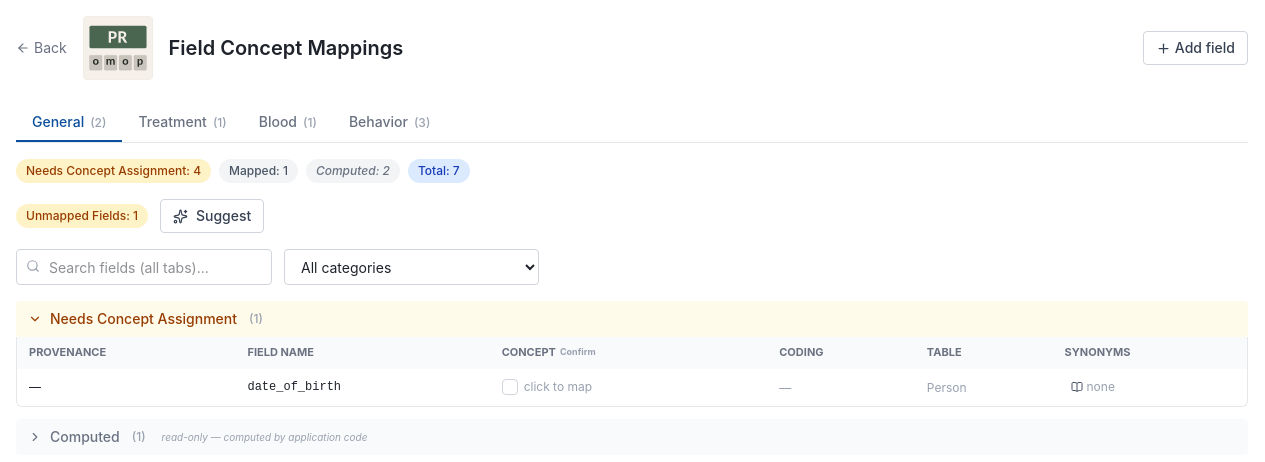
Test: FieldMappingPage › search shows results across all tabs
Expected: the heading "Field Concept Mappings" is shown, [169,34,403,62]
Type "smoking" into the field with placeholder "Search fields (all tabs)...".
click(144, 267); type("smoking")  # box [16,249,272,285]
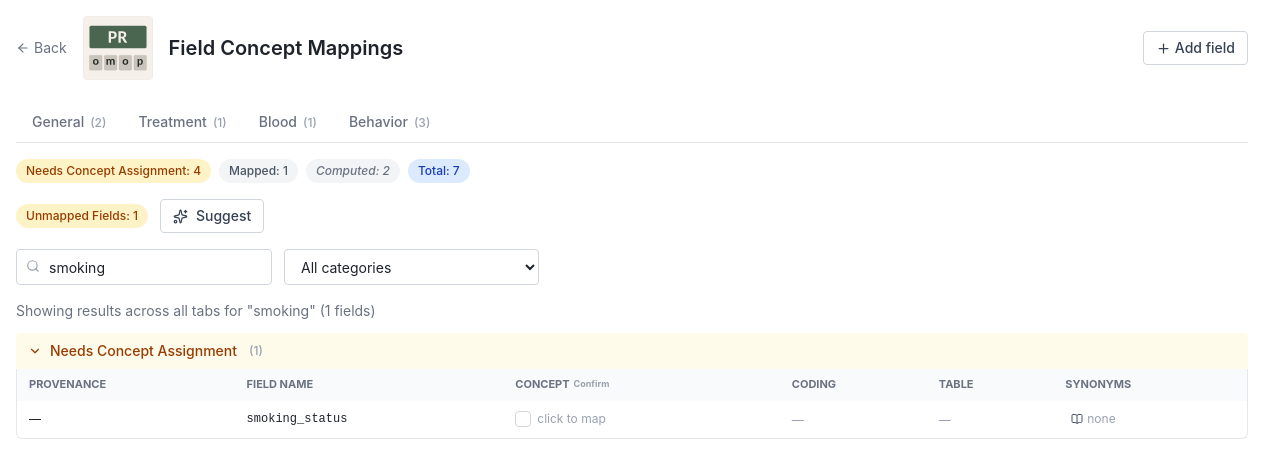
Result: the text "smoking_status" is shown at [235,401,503,438]
